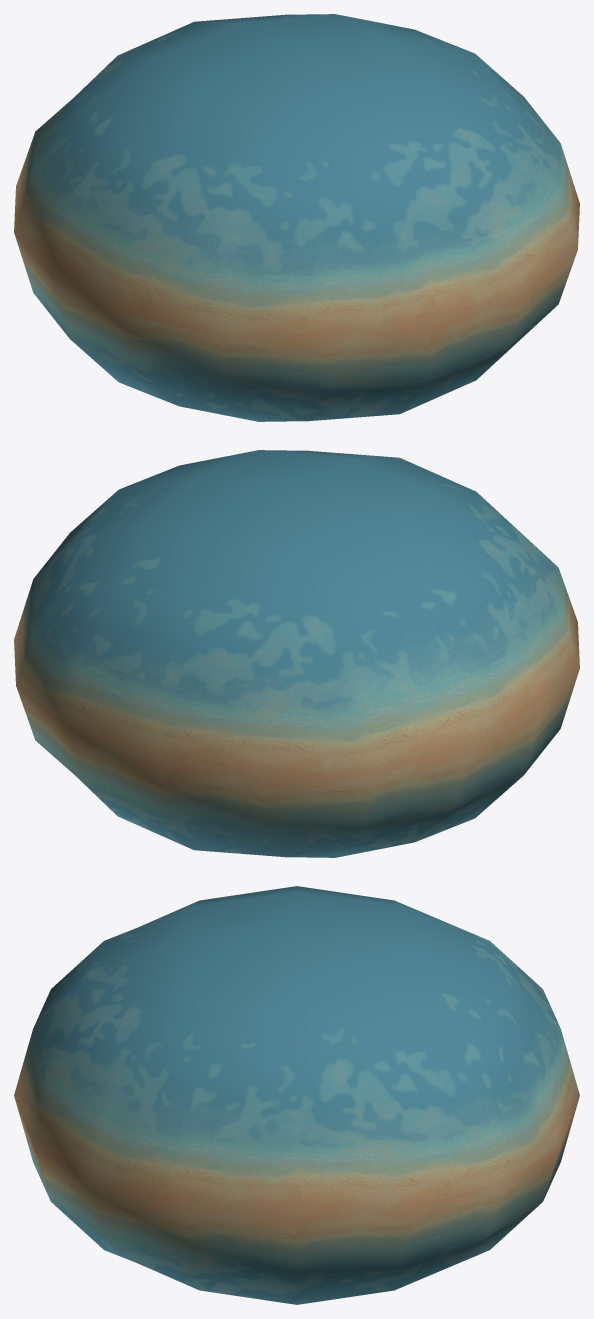
The model's file is bol_skyboxXpV2.fbx.
3 renders of one model, top to bottom at view 1: azimuth 30°, elevation 25°; view 2: azimuth 150°, elevation 25°; view 3: azimuth 270°, elevation 25°, orthographic.
Parts seen in each view (by area): view 1: pCube1; view 2: pCube1; view 3: pCube1.
Part boxes in pixels (x1,y1,x2,y2): pCube1: (14, 14, 579, 421); pCube1: (14, 450, 579, 857); pCube1: (14, 886, 579, 1304).
Size of the model in its own units: 44.71 by 29.02 by 44.71.
